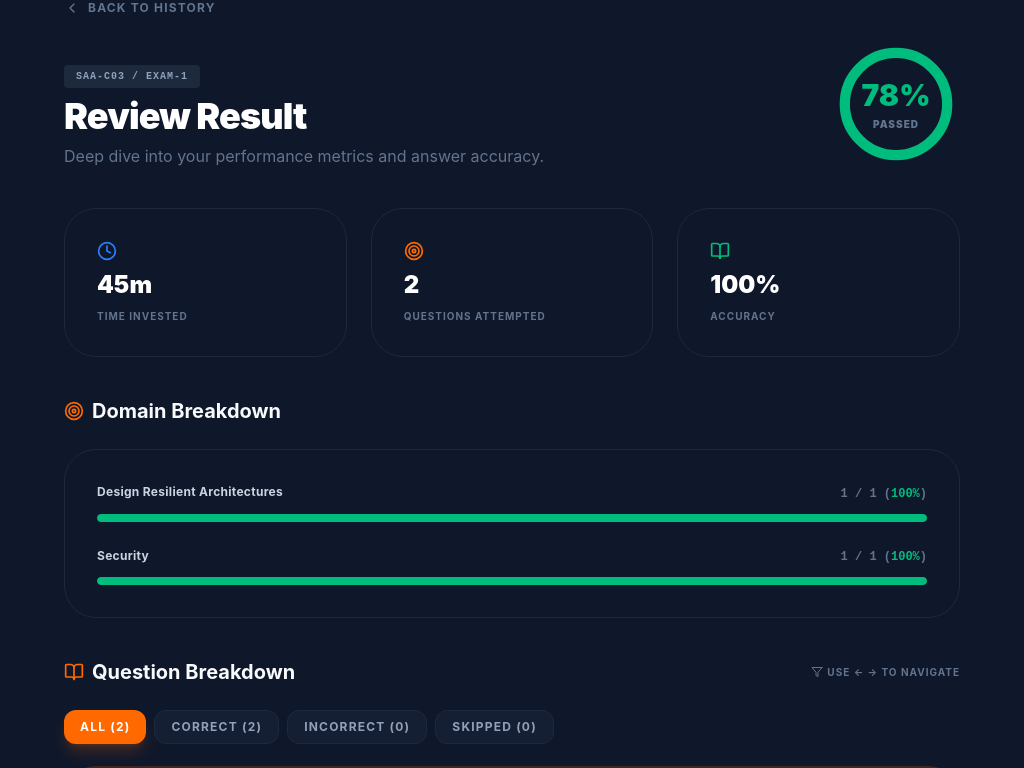
ResultReview Page › Filter tab switching (Requirement 4.1) › shows empty state when filter has no matching questions
The width and height of the screenshot is (1024, 768).
Click the button "Incorrect (0)" at (357, 727), box 287,710 -> 427,744
(page scrolled)
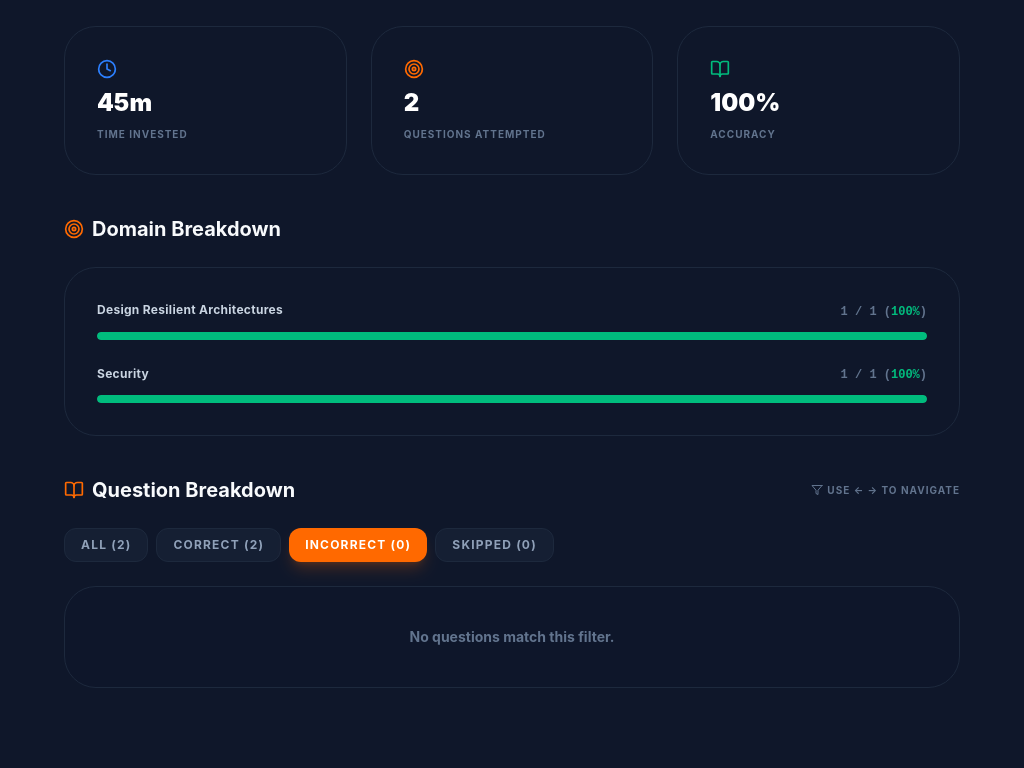
Expected: the text "No questions match this filter." is shown, 410,628 -> 614,645
